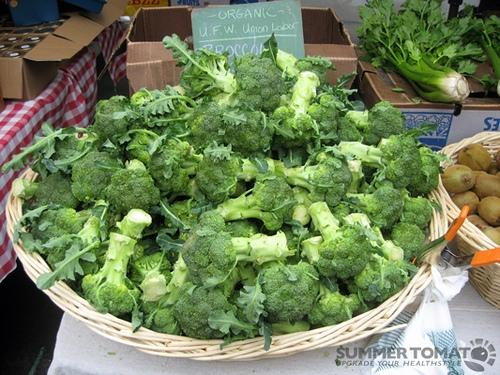broccoli: (180, 228, 294, 290), (82, 233, 144, 334), (308, 202, 371, 282), (162, 33, 237, 99), (216, 172, 298, 231), (139, 251, 196, 329), (340, 134, 422, 188), (274, 151, 352, 207), (270, 70, 320, 150), (218, 54, 288, 110), (261, 260, 319, 323), (146, 134, 203, 192), (172, 289, 237, 339), (105, 160, 160, 212), (194, 154, 246, 209), (308, 272, 360, 326), (72, 151, 122, 202), (346, 187, 404, 229), (354, 253, 402, 302), (346, 100, 407, 138), (406, 147, 452, 195), (129, 252, 173, 301), (41, 138, 100, 174), (224, 110, 274, 152), (94, 95, 142, 138), (30, 207, 92, 240), (395, 188, 442, 230), (188, 101, 226, 148), (34, 171, 80, 209), (391, 222, 429, 262), (148, 305, 183, 335), (308, 103, 340, 133), (189, 210, 226, 235), (220, 102, 260, 125), (292, 186, 314, 226), (50, 136, 83, 161), (164, 200, 188, 228), (337, 117, 360, 142), (339, 111, 346, 117)
celery: (355, 0, 500, 103), (482, 28, 500, 96)
kiwi: (458, 142, 492, 174), (442, 164, 476, 194), (469, 174, 500, 199), (451, 190, 480, 216), (477, 196, 500, 226), (466, 214, 490, 230), (488, 162, 498, 174)
